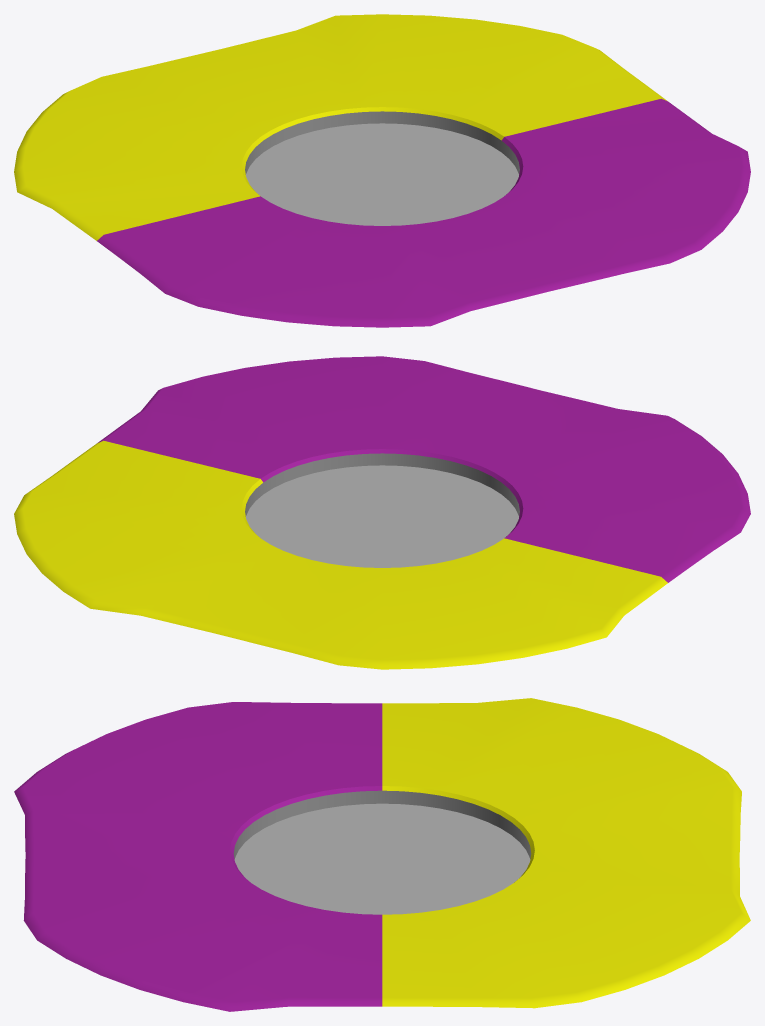
The model's file is courtyardshit.fbx.
The picture shows the model from 3 angles, top to bottom: view 1: azimuth 30°, elevation 25°; view 2: azimuth 150°, elevation 25°; view 3: azimuth 270°, elevation 25°; orthographic projection. The views are drawn at different scales.
Parts seen in each view (by area): view 1: courtyard_raised_ground; view 2: courtyard_raised_ground; view 3: courtyard_raised_ground.
Part boxes in pixels (left/top/right/bottom): courtyard_raised_ground: left=14, top=14, right=750, bottom=327; courtyard_raised_ground: left=14, top=356, right=750, bottom=669; courtyard_raised_ground: left=14, top=698, right=750, bottom=1011.
Size of the model in its own units: 124 by 3.08 by 124.
